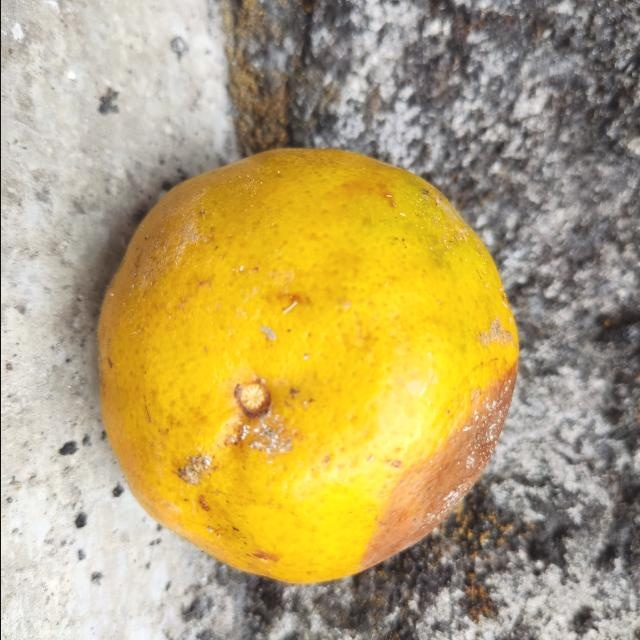agrume: (93, 146, 519, 592)
